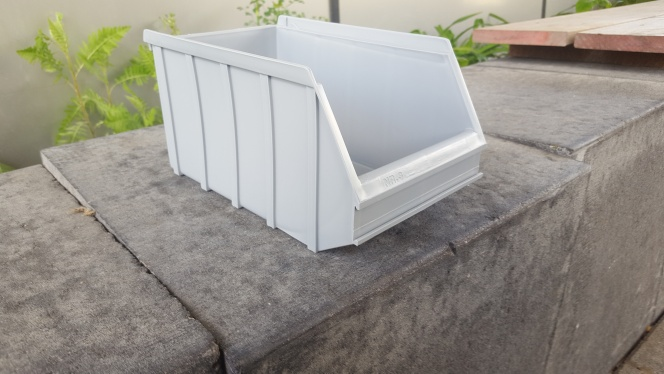tray_left: (139, 22, 359, 278)
